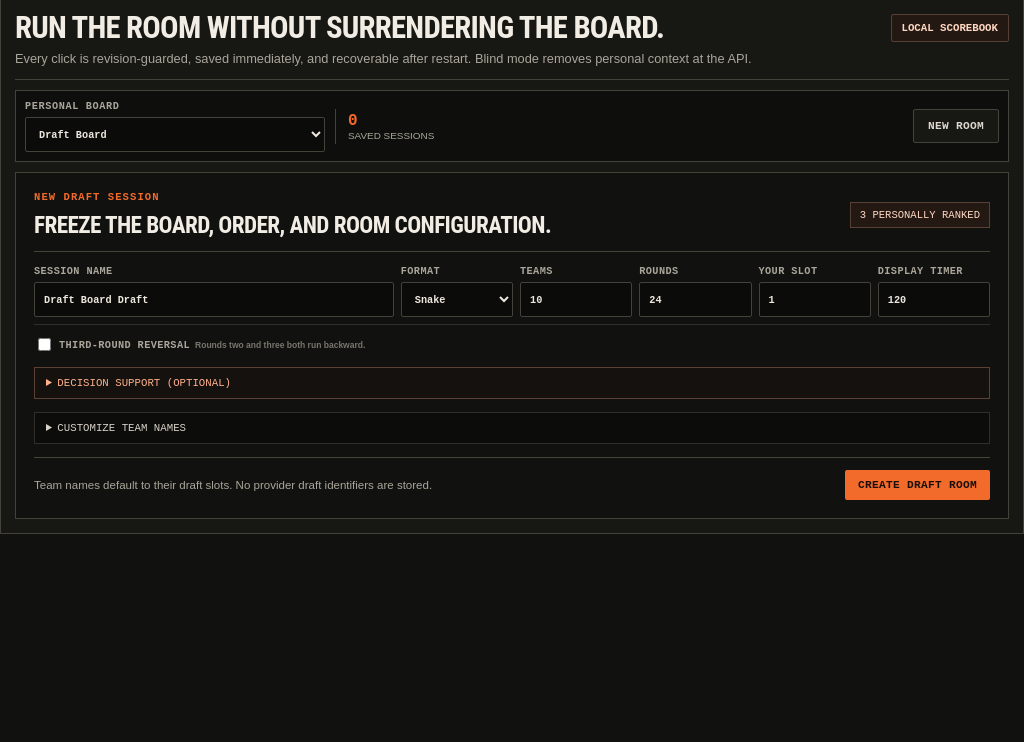
Test: DraftWorkspace › optionally attaches a selected evidence snapshot after creating the room
Expected: the button "Create draft room" is enabled, [845,470,990,500]
Click the heading "Decision support (optional)": (144, 383) [57,377,231,389]
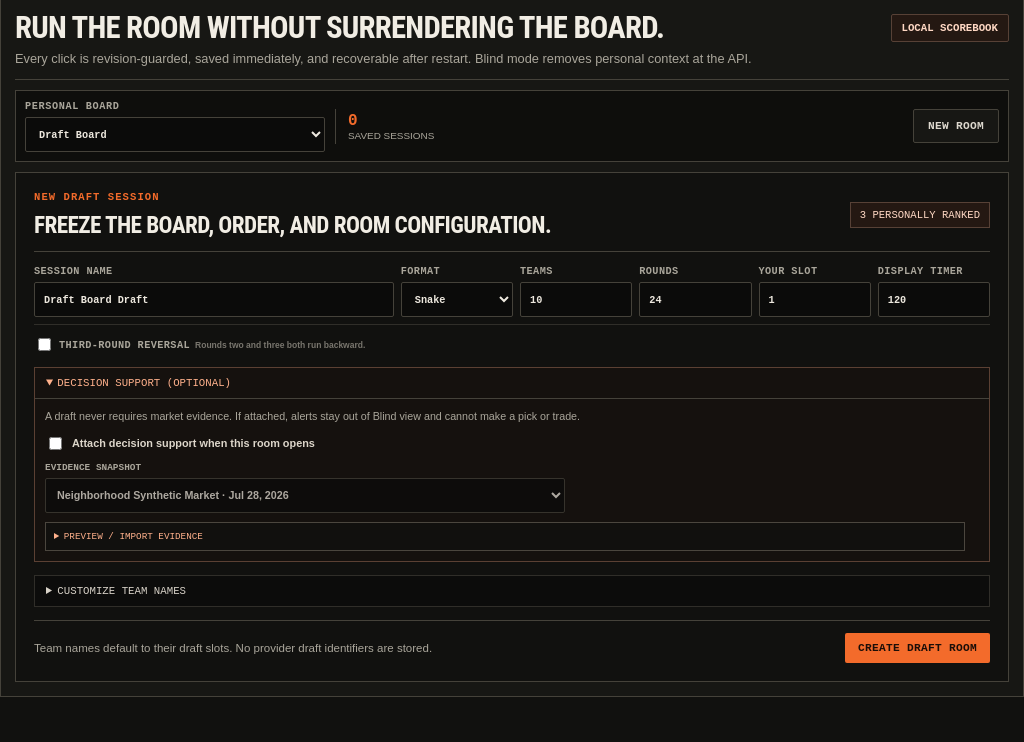
Click the checkbox labelled "Attach decision support when this room opens": (56, 443) [49,436,62,450]
(page scrolled)
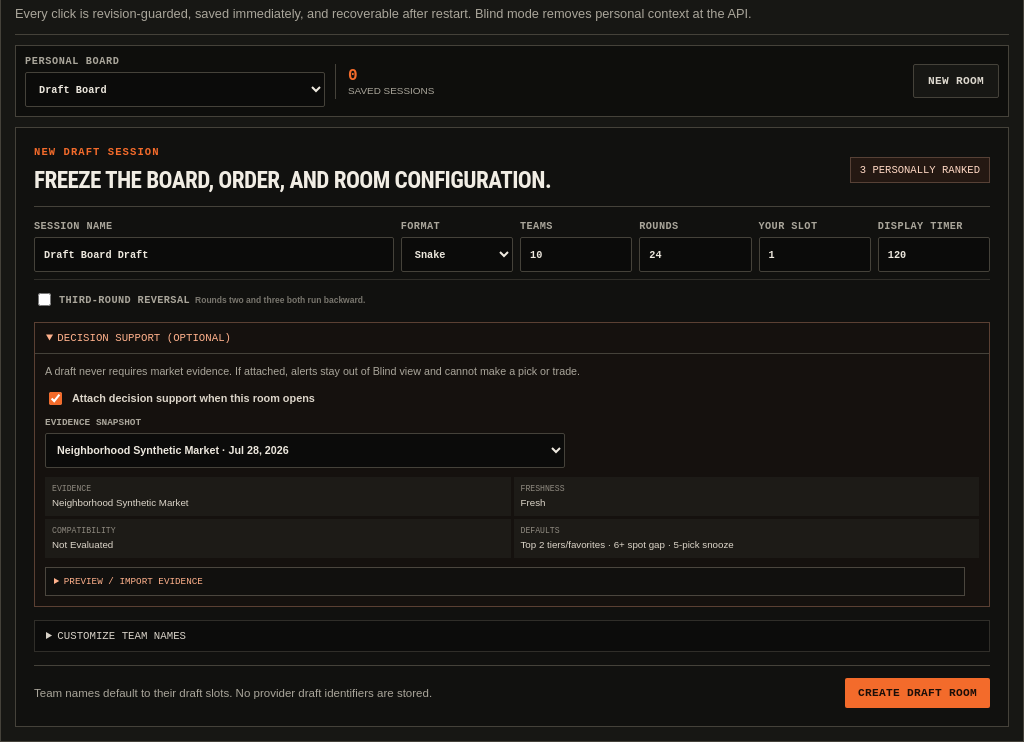
Click the button "Create draft room": (918, 693) [845,678,990,708]
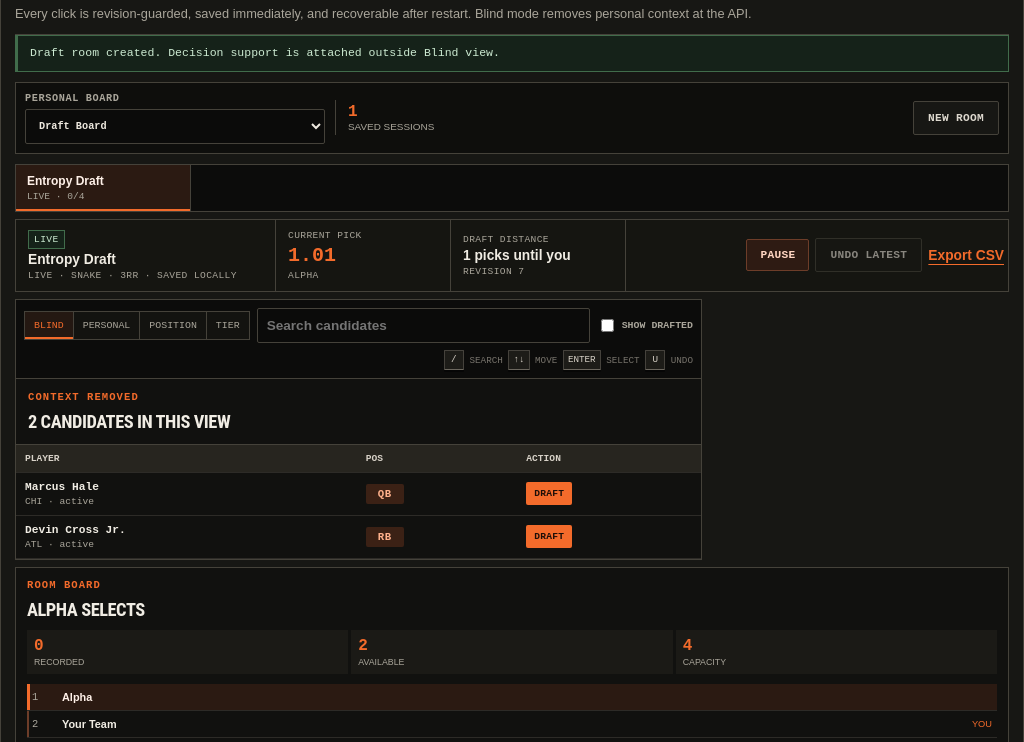
Expected: the text "Draft room created. Decision support is attached outside Blind view." is shown, [15,35,1009,72]
